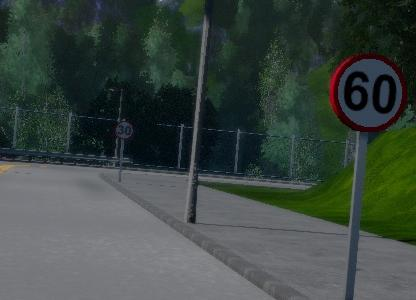Speed_60: (328, 50, 409, 136)
